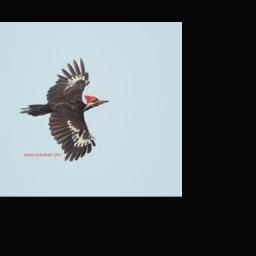Woodpecker: (19, 57, 108, 160)
